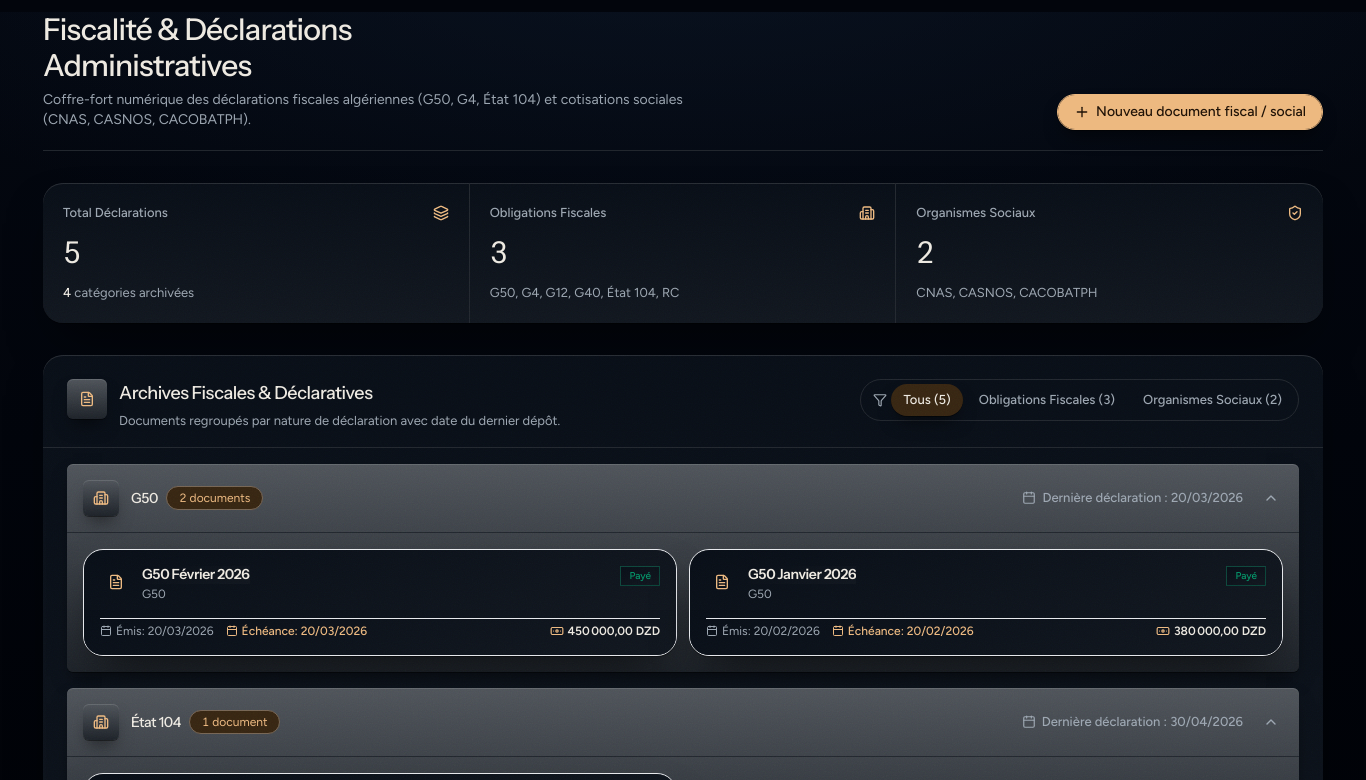
FiscalitePage › toggles collapsible section to hide and show documents within a group
Expected: the text "G50 Février 2026" is shown, [142,566,250,584]
Click header to collapse
Click the button "G50 2 documents Dernière déclaration : 20/03/2026".
click(101, 498)  # box [83,480,1279,516]
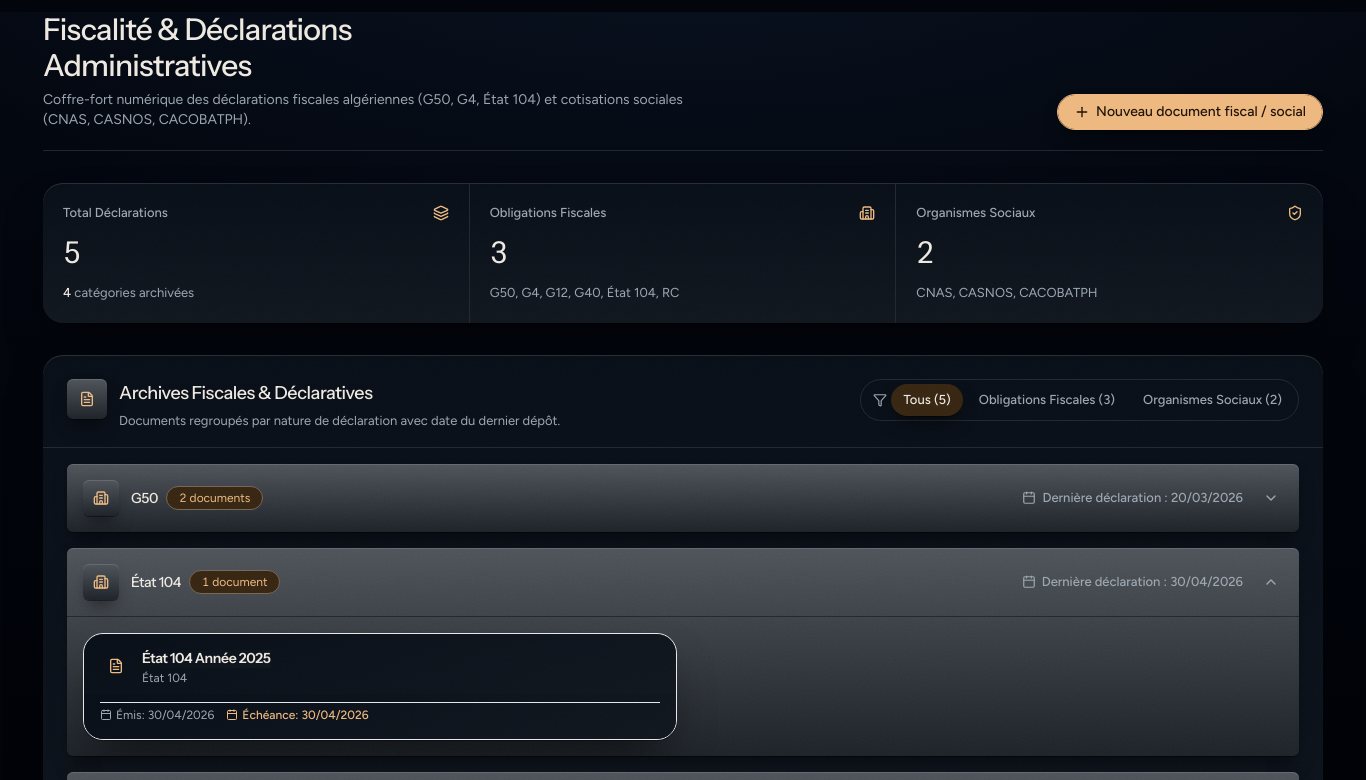
Result: the button "G50 2 documents Dernière déclaration : 20/03/2026" is collapsed
Result: the button "G50 Février 2026" is gone
Click header again to expand
Click the button "G50 2 documents Dernière déclaration : 20/03/2026".
click(101, 498)  # box [83,480,1279,516]
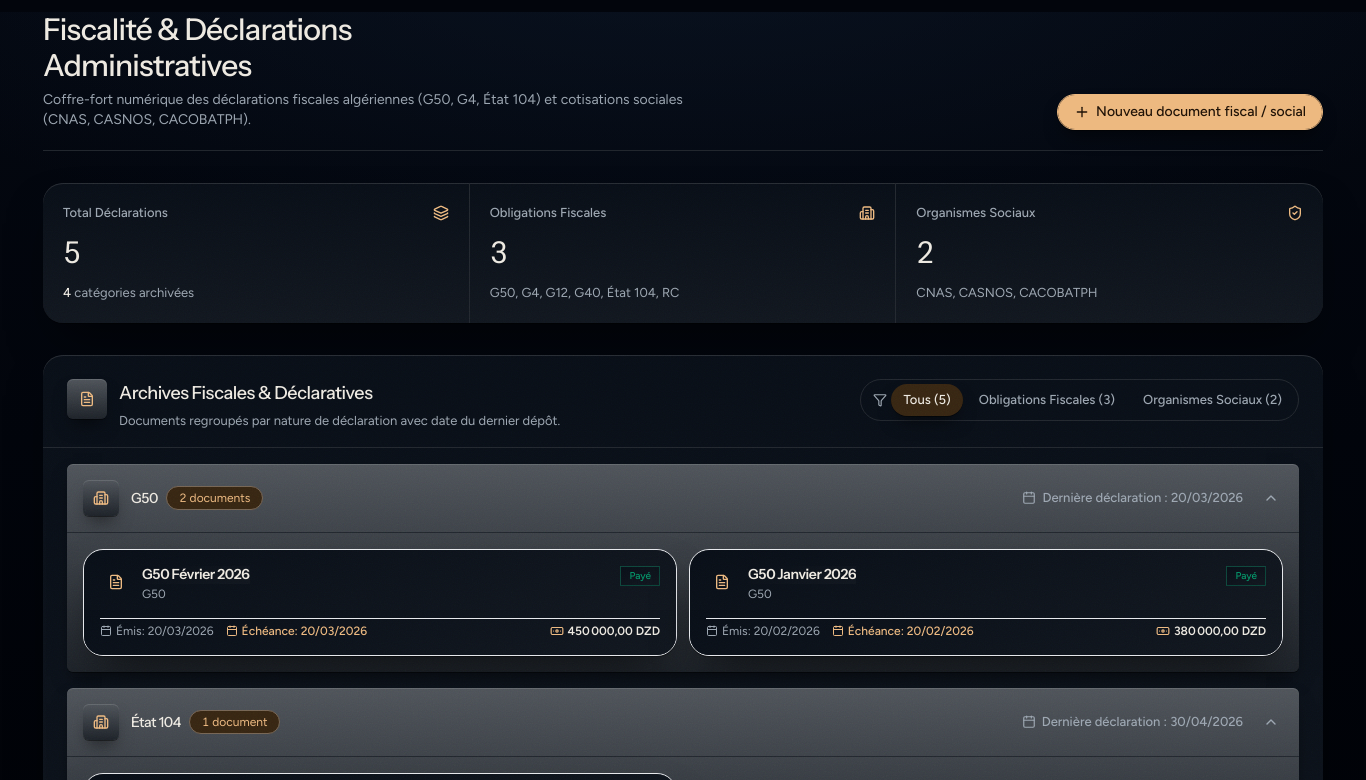
Result: the button "G50 2 documents Dernière déclaration : 20/03/2026" is expanded at [83,480,1279,516]
Result: the text "G50 Février 2026" is shown at [142,566,250,584]
